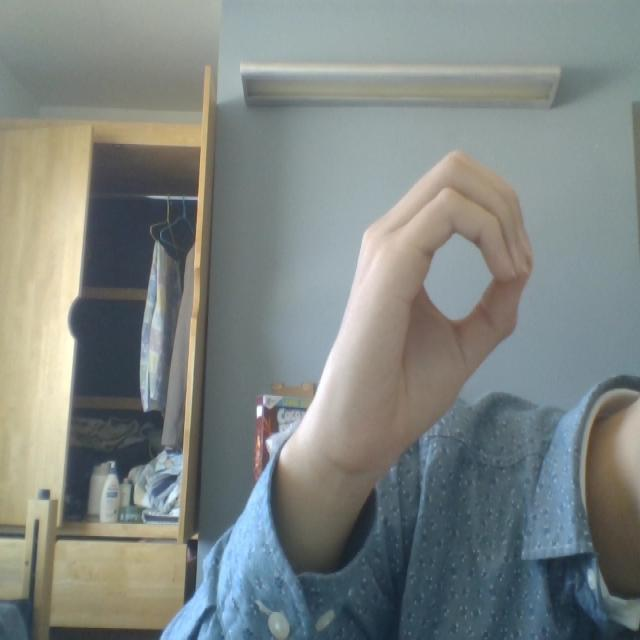O: (315, 92, 555, 472)
